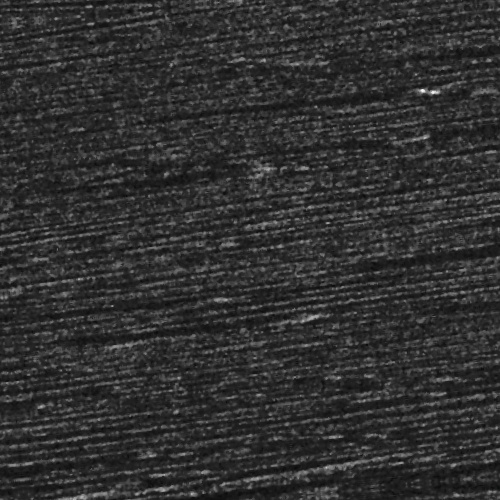object: (213, 163, 296, 172), (391, 101, 464, 108), (374, 149, 427, 156), (293, 317, 334, 322)
shadow: (127, 101, 427, 108), (22, 163, 254, 172), (175, 149, 401, 156), (374, 268, 500, 273), (232, 317, 313, 322)
